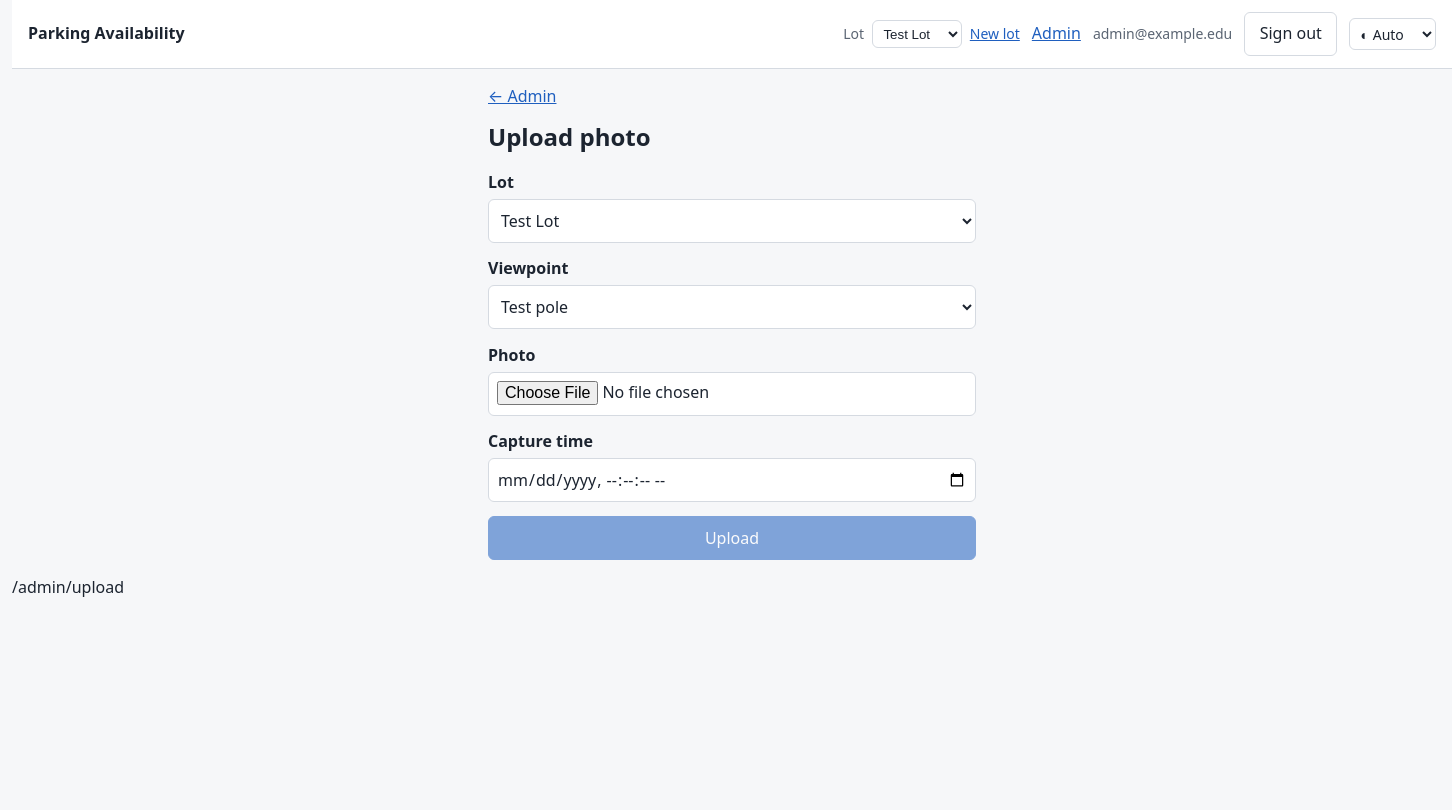
Scenario: US-16 #3: lot picker on every admin page › the Upload page's own lot select moves the picker too
Select "North Lot" in the dropdown labelled "Lot" at (732, 221), box [488, 199, 976, 243]
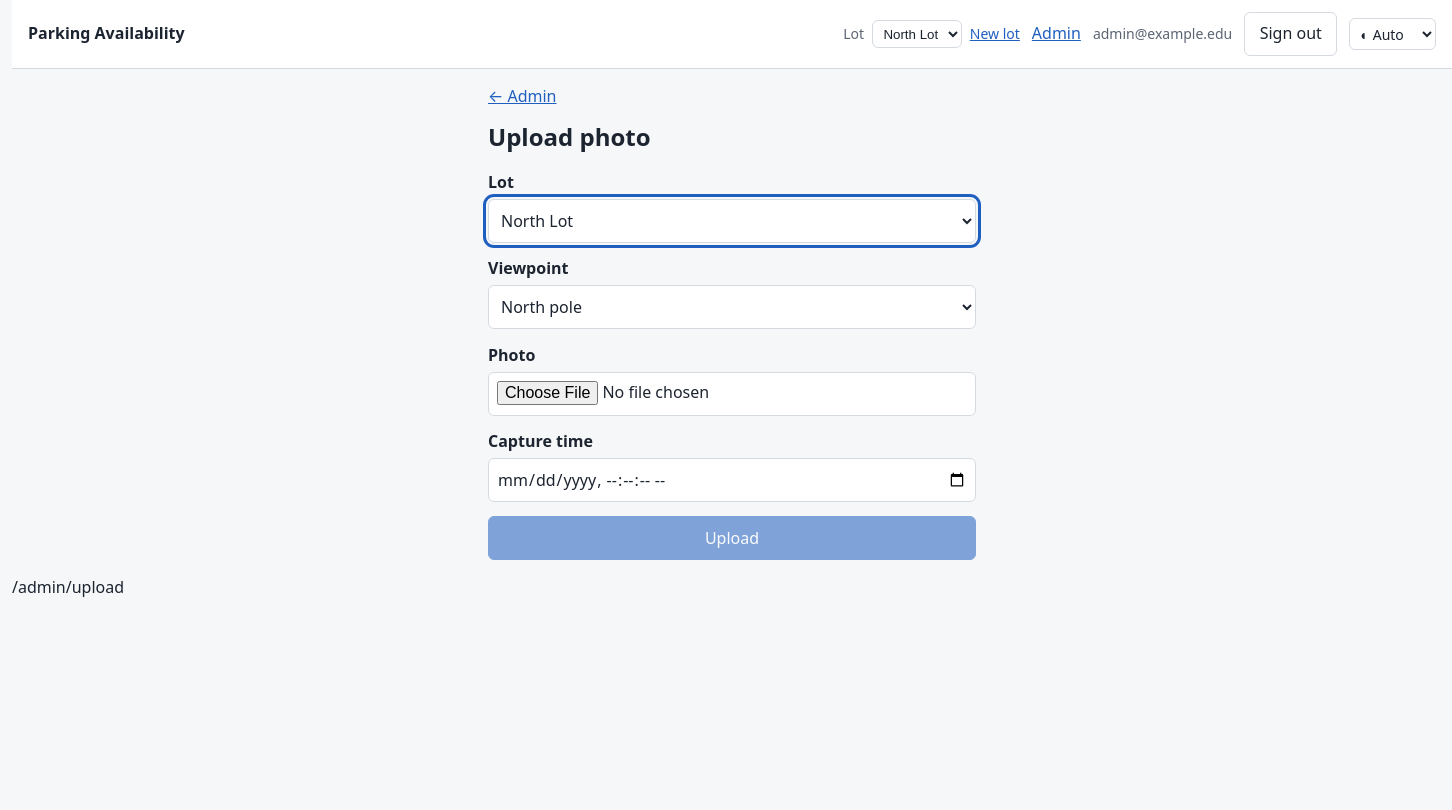
Now the dropdown named "Lot picker" shows "North Lot", box [872, 20, 962, 48]
